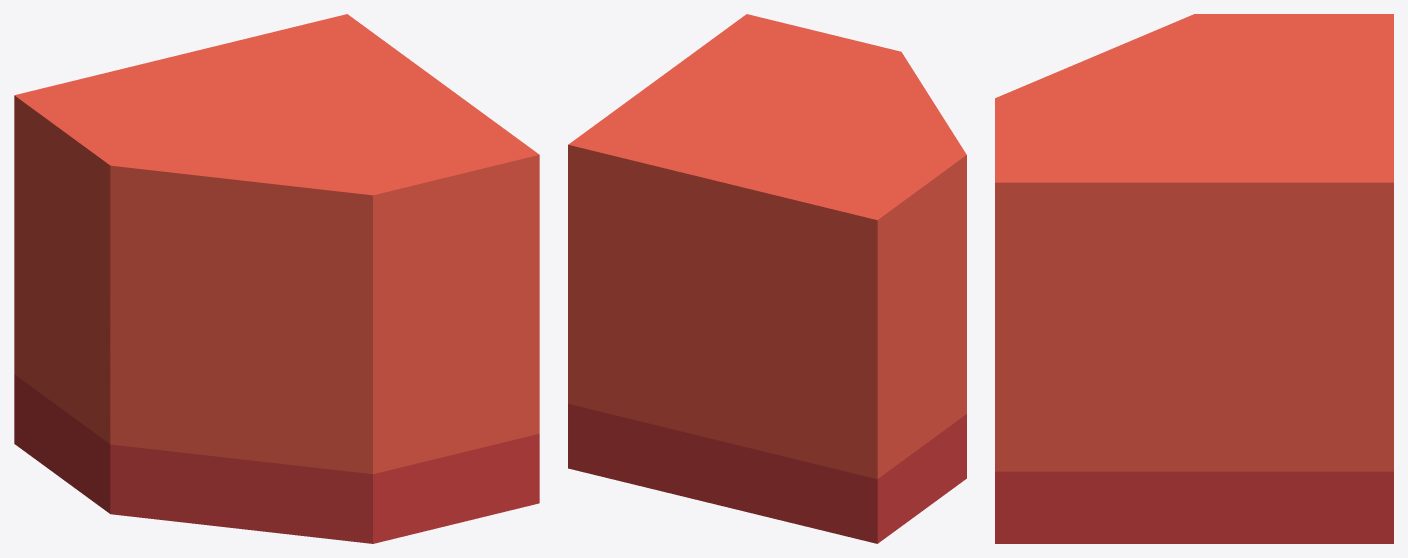
File: block8.obj
3 renders of one model, left to right at view 1: azimuth 30°, elevation 25°; view 2: azimuth 150°, elevation 25°; view 3: azimuth 270°, elevation 25°, orthographic. The views are drawn at different scales.
Parts seen in each view (by area): view 1: mergedBlocks; view 2: mergedBlocks; view 3: mergedBlocks.
Part boxes in pixels (left/top/right/bottom): mergedBlocks: left=14, top=14, right=539, bottom=543; mergedBlocks: left=568, top=14, right=966, bottom=543; mergedBlocks: left=995, top=14, right=1393, bottom=543.
Size of the model in its own units: 1 by 1 by 1.
